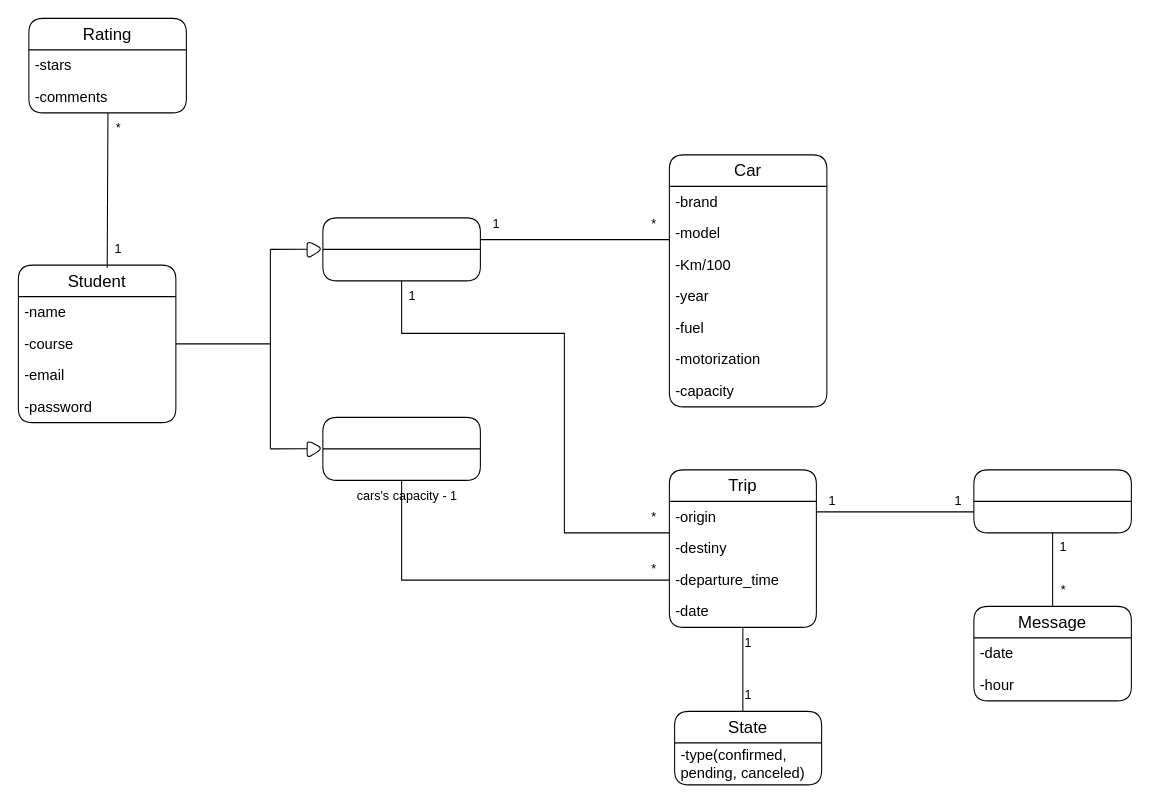
Image size: 1150x803. Some labels were removed from this diagram. Here are the shapes that lost their labels. From the top down, the centre of each, then its label:
At pixel 401 249: "Driver".
At pixel 401 448: "Passenger".
At pixel 1052 501: "Chat".
